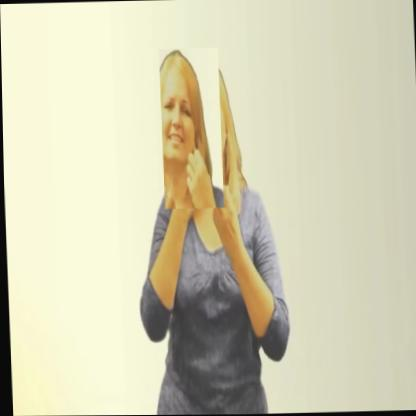ThankYou: (158, 48, 223, 209)
